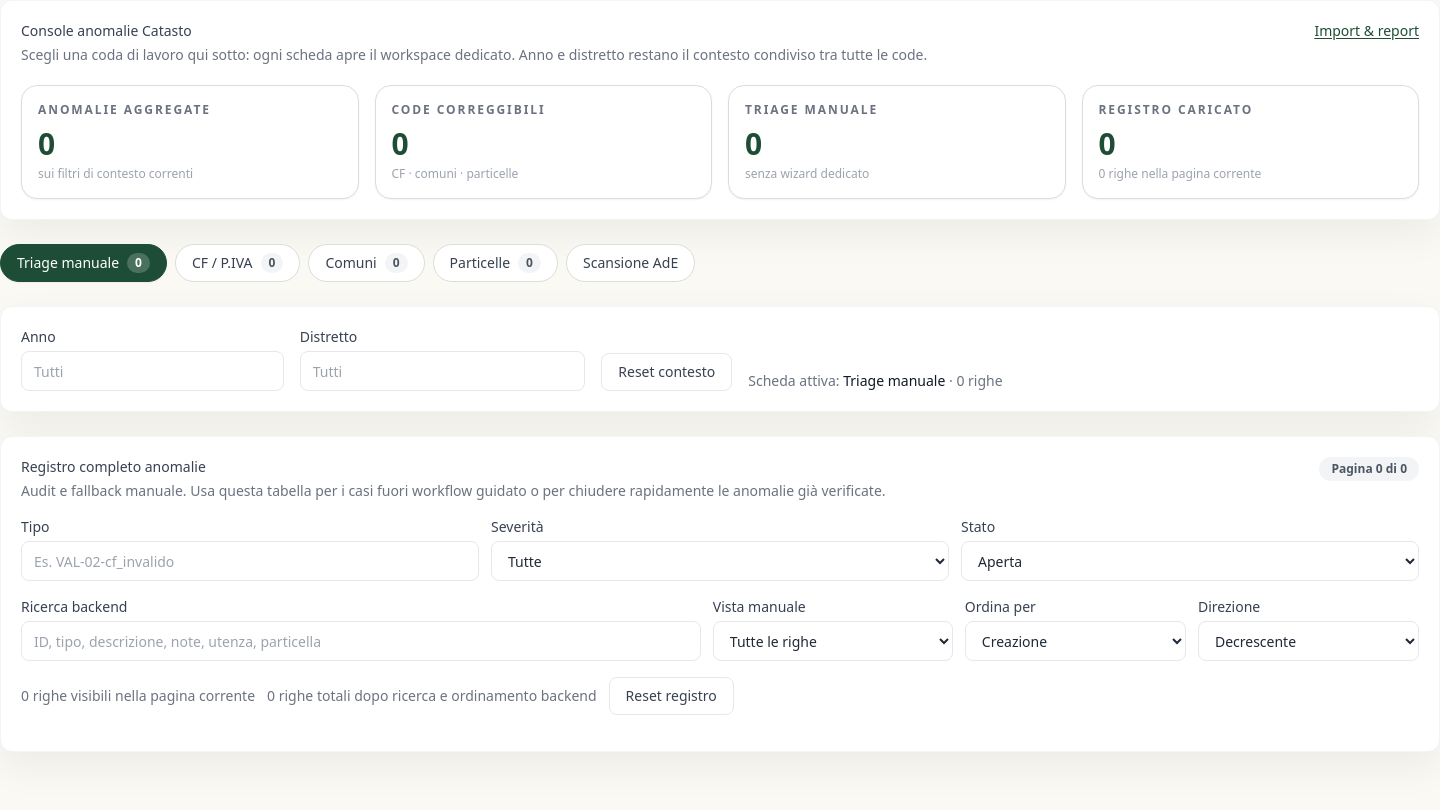
Test: R17 original Catasto CF wizard public transitions › an explicit manual tab keeps CF idle until its own navigation button is selected
The width and height of the screenshot is (1440, 810).
Check: the button "Reset contesto" is enabled, box [601,353,732,391]
Check: the text "Wizard codice fiscale" is not shown
Click the button "CF / P.IVA 0": {"x": 238, "y": 263} [175,244,300,282]
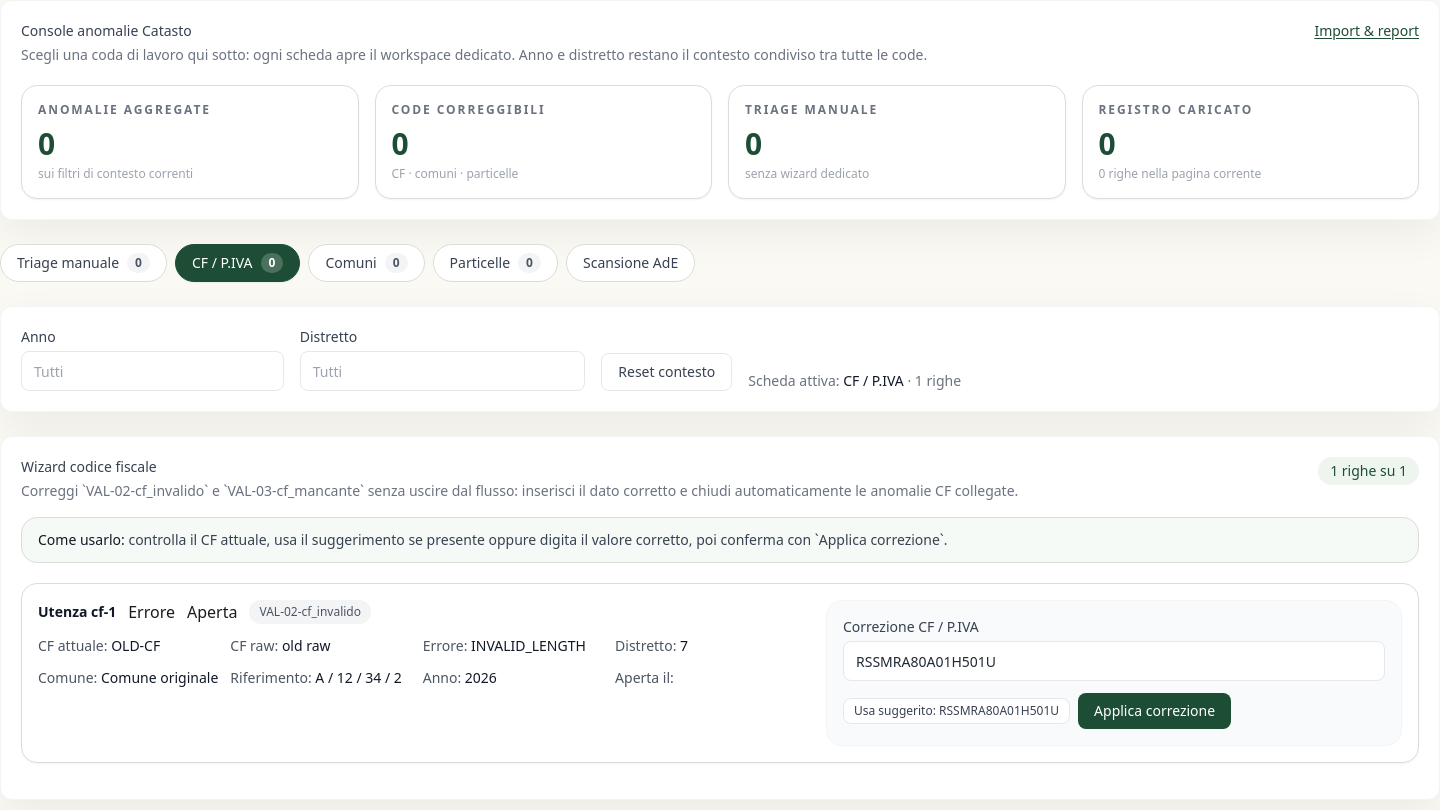
Check: the text "Utenza cf-1" is shown, box [38,602,116,622]
